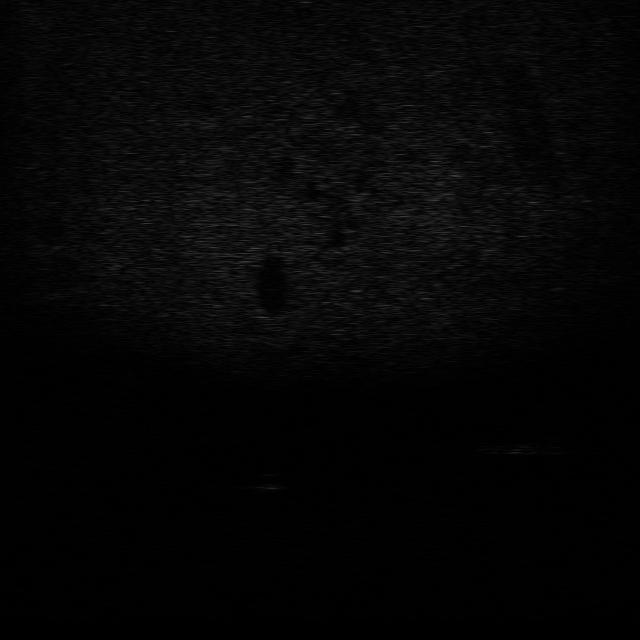ball: (252, 470, 294, 491)
human body: (462, 433, 584, 458)
